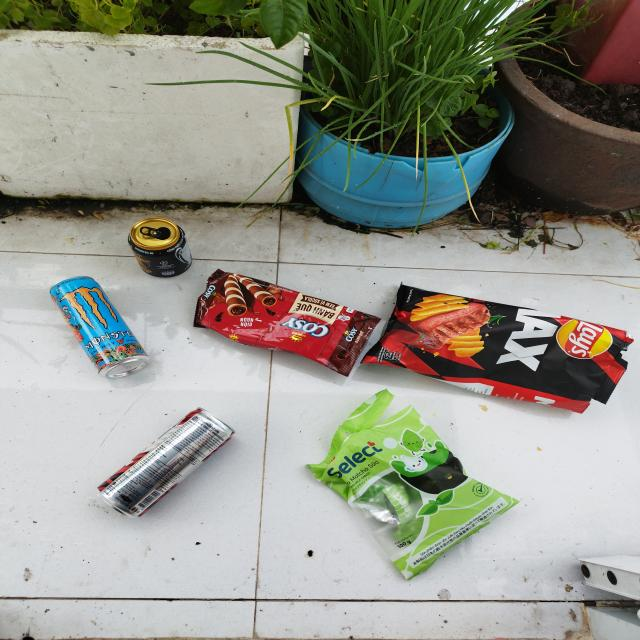can: (96, 407, 236, 519), (49, 276, 150, 378), (128, 217, 192, 278)
snack package: (306, 388, 520, 581), (360, 281, 634, 414), (193, 268, 382, 377)
